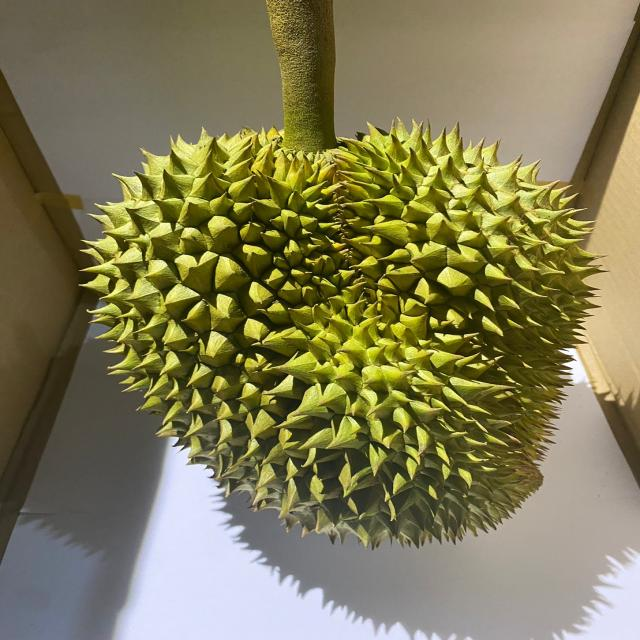immature: (78, 116, 609, 552)
